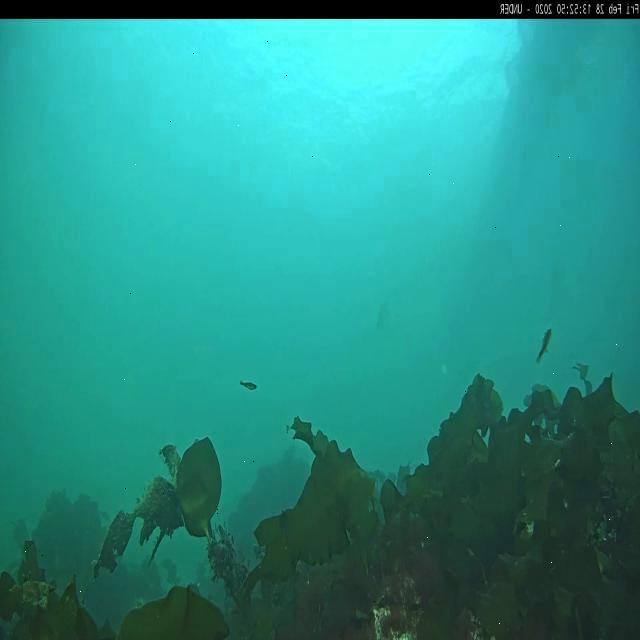fish: (536, 325, 552, 365), (239, 375, 258, 392)
